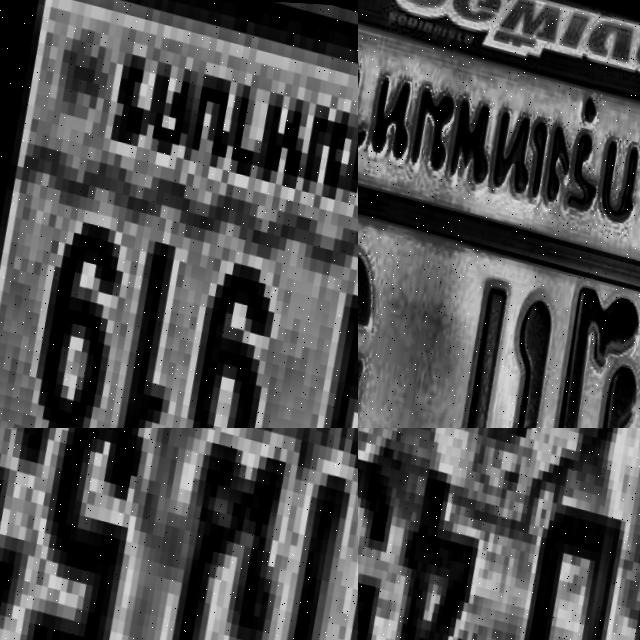license-plate: (0, 0, 358, 428), (358, 0, 640, 428), (0, 428, 358, 640), (358, 428, 640, 640)
